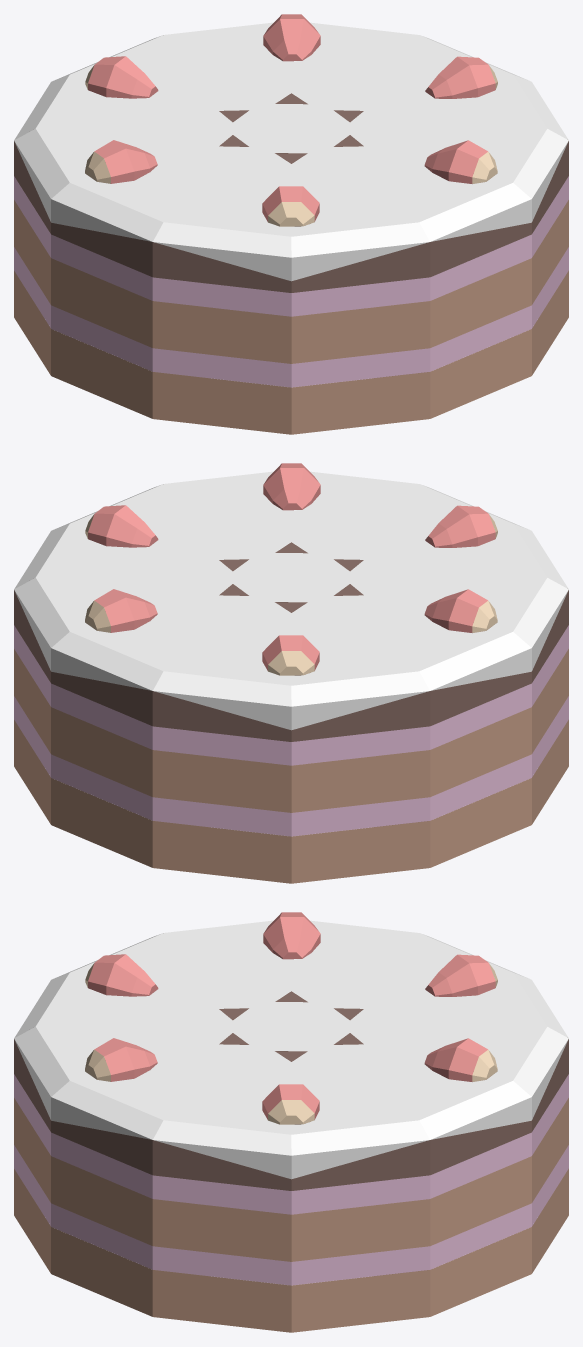
File: cake.glb
3 views of the same model, one above another, from view 1: azimuth 30°, elevation 25°; view 2: azimuth 150°, elevation 25°; view 3: azimuth 270°, elevation 25° (orthographic).
Visible parts, largest first — view 1: slice (×6); view 2: slice (×6); view 3: slice (×6).
Part boxes in pixels (bbox=[...]): slice (×6): bbox=[14, 14, 568, 434]; slice (×6): bbox=[14, 463, 568, 883]; slice (×6): bbox=[14, 912, 568, 1332].
Size of the model in its own units: 0.6393 by 0.2731 by 0.6392.
